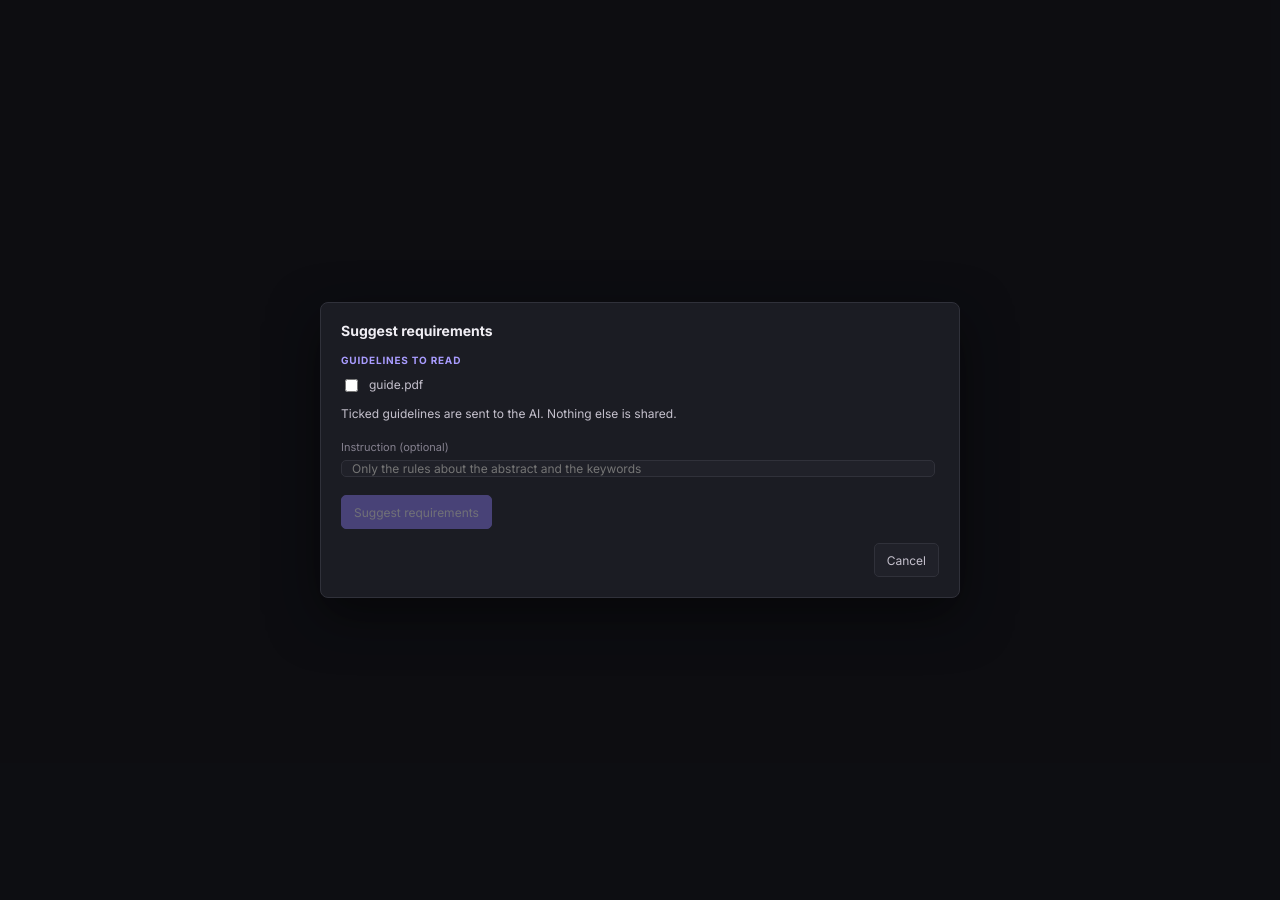
RequirementsSuggestDialog › starts the job with the ticked guidelines; unverified items are unticked and marked
What coordinates should you click on to do the following:
click the checkbox labelled "guide.pdf"
I would click on:
 (352, 385)
Its box is [345,379,358,392].
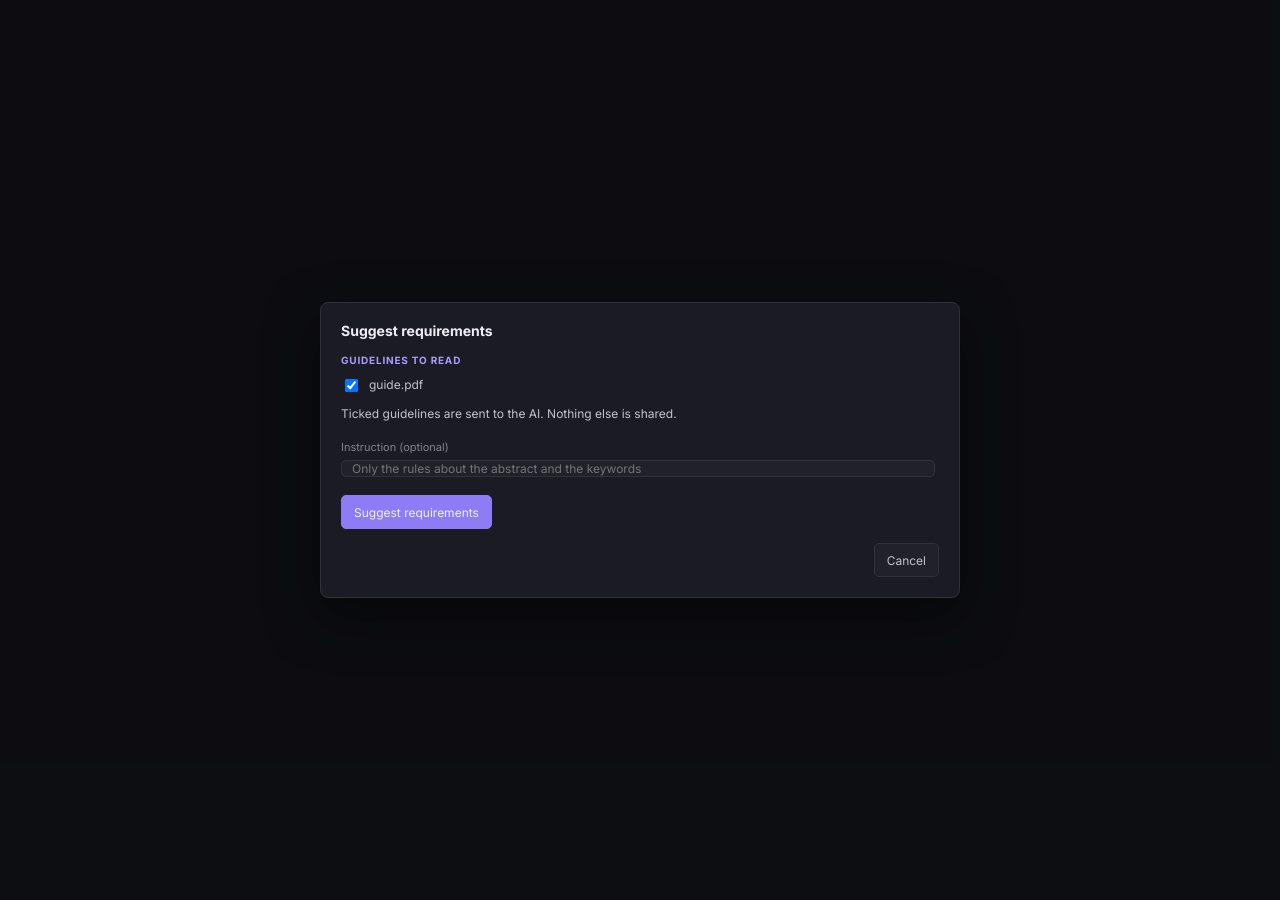
What coordinates should you click on to do the following:
click the button "Suggest requirements"
I would click on:
 (416, 512)
Its box is [341,495,492,529].
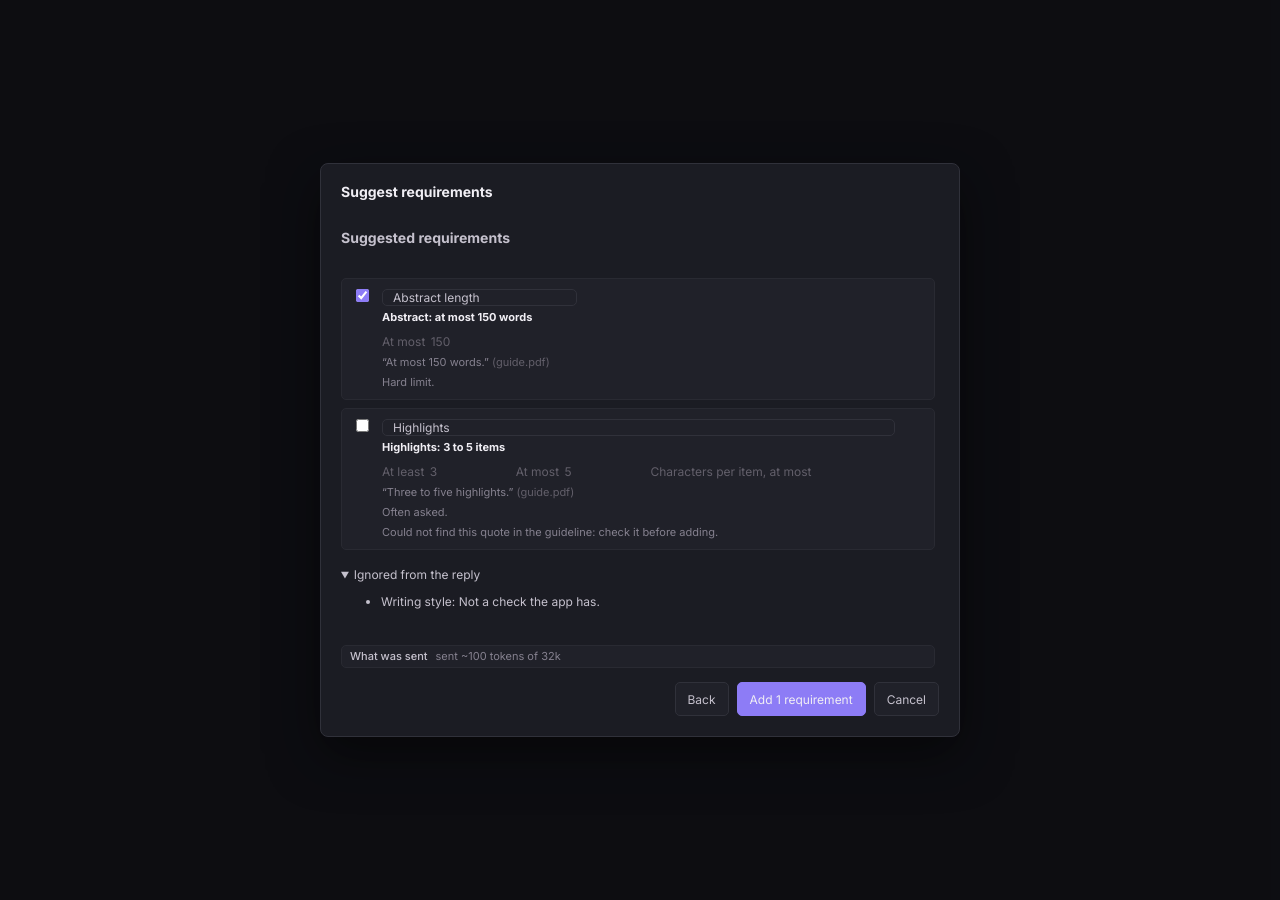
Check: the checkbox named "Add Abstract length" is checked, box [356,289,369,302]
Check: the checkbox named "Add Highlights" is not checked, box [356,419,369,432]
Check: the text "Abstract: at most 150 words" is shown, box [382,310,532,324]
